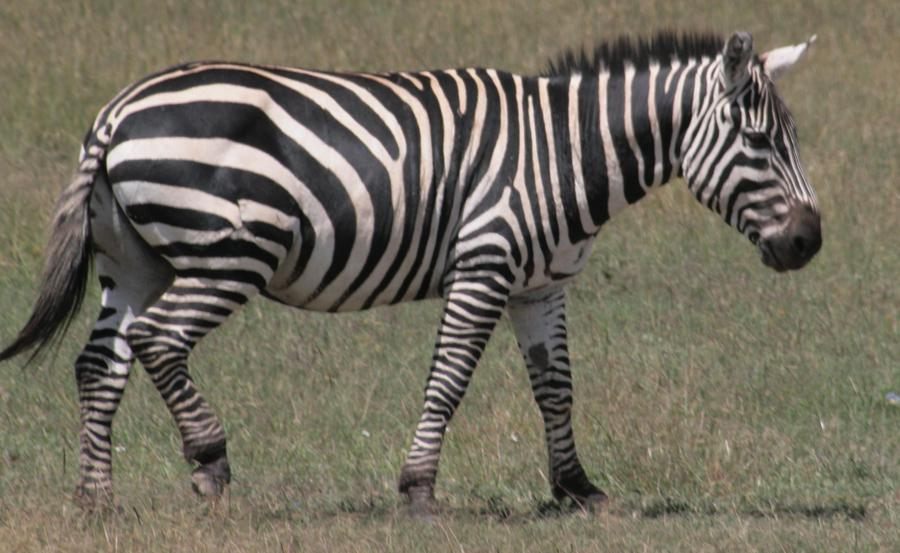zebra_plains: (168, 43, 583, 328)
